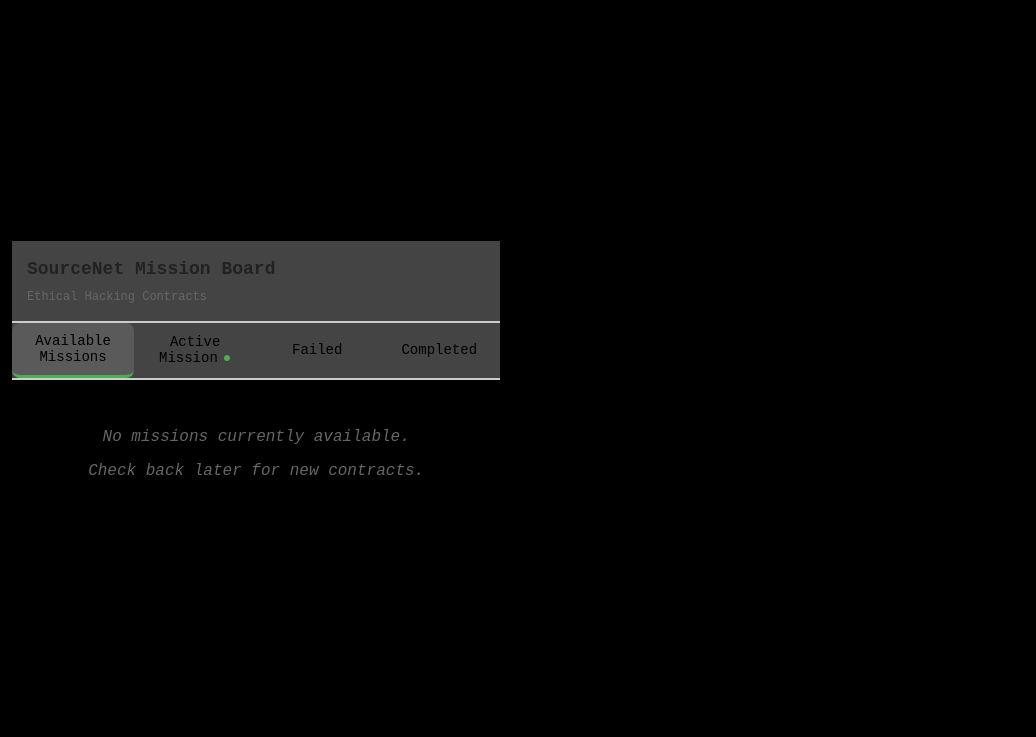
it: MissionBoard Component › submit for completion button › should show submit button when all required objectives complete but optional remain (data-detective scenario)
The width and height of the screenshot is (1036, 737).
Click the button "Active Mission●": coordinates (195, 350) [134,322,256,378]
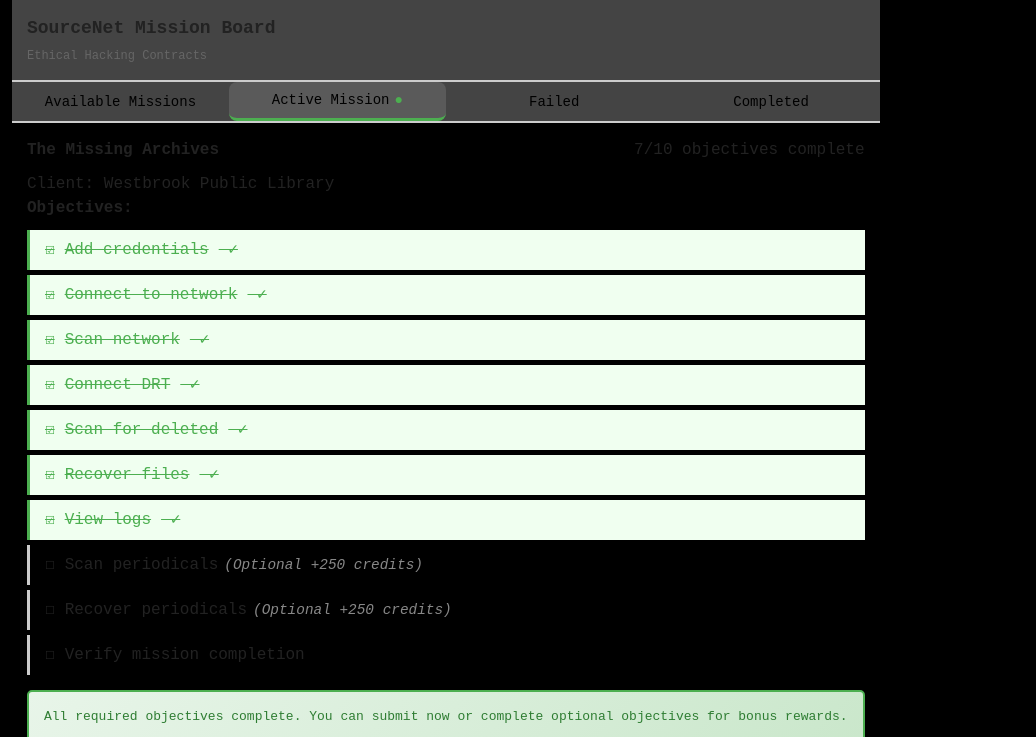
Expected: the text "All required objectives complete" is shown, [44,709,848,724]
